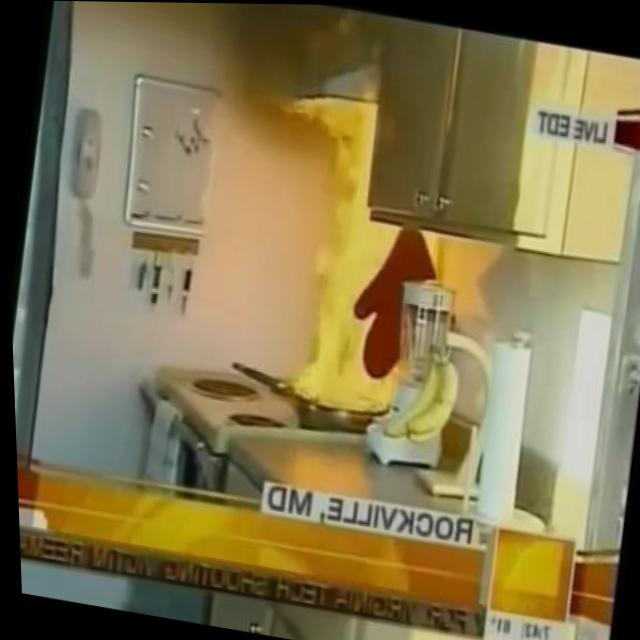fire: (253, 90, 444, 420)
